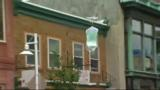UAV: (86, 16, 98, 23)
